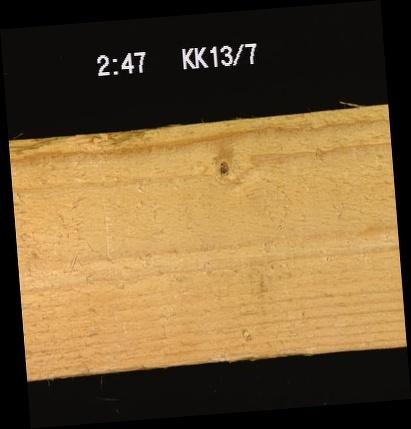dry_knot: (214, 155, 231, 180)
wave: (8, 133, 150, 150)
